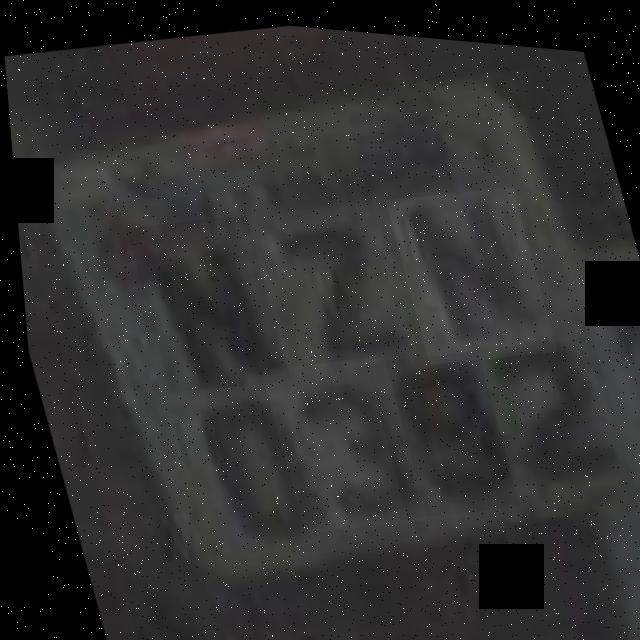0: (166, 363, 317, 547)
2: (452, 317, 633, 518)
3: (254, 341, 422, 537)
9: (359, 334, 513, 519)
N: (381, 168, 554, 366), (121, 202, 286, 399)
Z: (257, 187, 413, 376)
